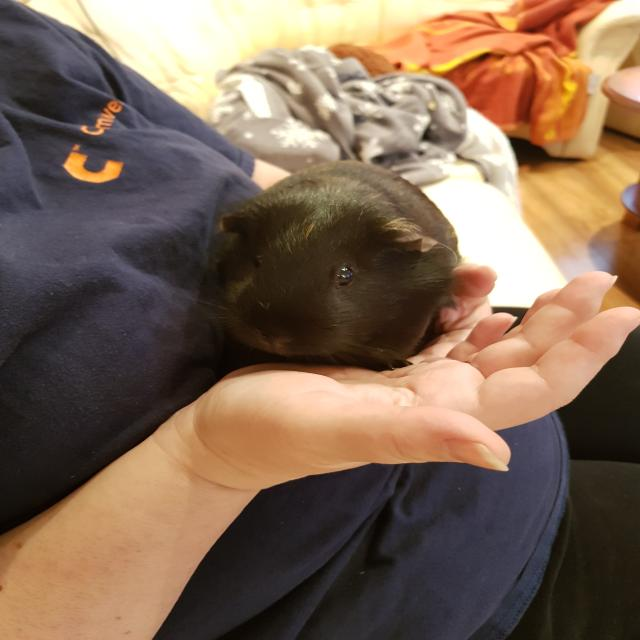guinea pig: (207, 159, 462, 374)
